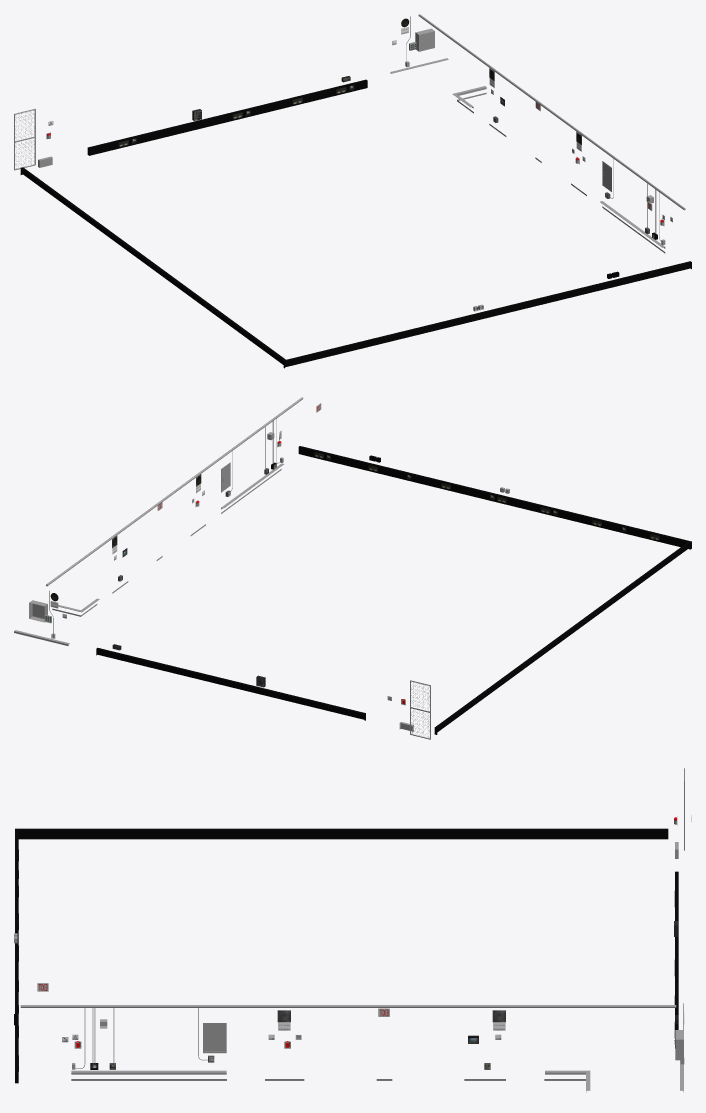
The model's file is Cube Wall Extras.fbx.
3 views of the same model, one above another, from view 1: azimuth 30°, elevation 25°; view 2: azimuth 150°, elevation 25°; view 3: azimuth 270°, elevation 25° (orthographic). The views are drawn at different scales.
Parts seen in each view (by area): view 1: Under_SideWall1, Under_SideWall, Under_SideWall2, Entrance_Door_Pipe; view 2: Under_SideWall1, Under_SideWall, Under_SideWall2, Entrance_Door_Pipe; view 3: Under_SideWall2, Entrance_Door_Pipe, Under_SideWall1, Wall_Shelf_1, Entrance_Door_Metal_Panel, Under_SideWall.
Part boxes in pixels (left/top/right/bottom): Under_SideWall1: left=283, top=261, right=691, bottom=368; Under_SideWall: left=87, top=79, right=367, bottom=155; Under_SideWall2: left=20, top=167, right=286, bottom=367; Entrance_Door_Pipe: left=418, top=14, right=685, bottom=210; Under_SideWall1: left=298, top=446, right=691, bottom=549; Under_SideWall: left=96, top=647, right=365, bottom=720; Under_SideWall2: left=434, top=542, right=690, bottom=734; Entrance_Door_Pipe: left=46, top=397, right=303, bottom=586; Under_SideWall2: left=18, top=828, right=668, bottom=839; Entrance_Door_Pipe: left=20, top=1005, right=676, bottom=1007; Under_SideWall1: left=15, top=828, right=18, bottom=1083; Wall_Shelf_1: left=71, top=1070, right=226, bottom=1074; Entrance_Door_Metal_Panel: left=203, top=1023, right=226, bottom=1053; Under_SideWall: left=675, top=871, right=678, bottom=1048.
Size of the model in its own units: 1645 by 240 by 1805.
25 materials, 20 textured.
